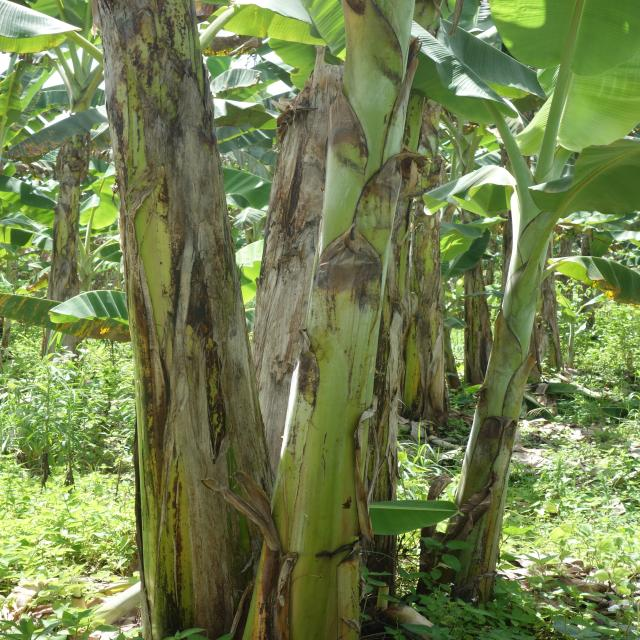Banana-plant: (227, 0, 413, 640), (84, 3, 263, 640), (432, 192, 558, 601), (37, 45, 101, 346)
